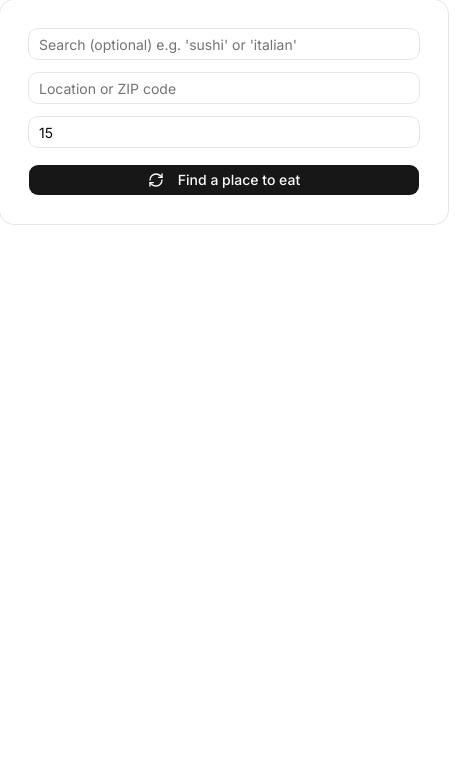
RestaurantFinder › shows "Get a different restaurant" button after a result is displayed
Click the button "Find a place to eat" at (224,180), box [28, 164, 420, 196]
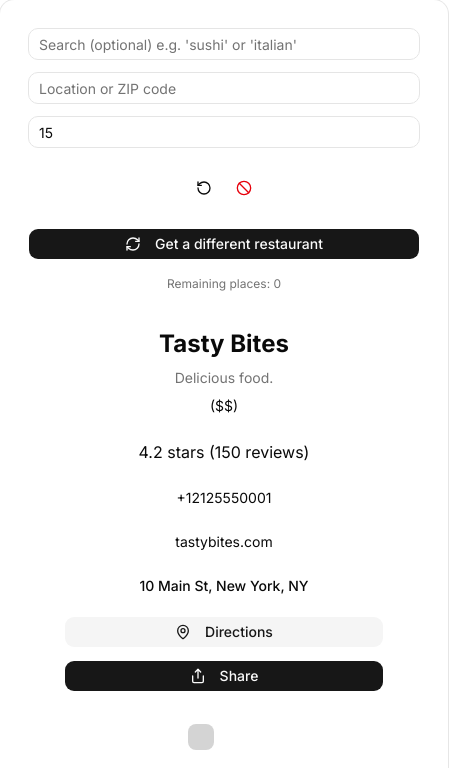
expect the button "Get a different restaurant" is shown: met, box [28, 228, 420, 260]
